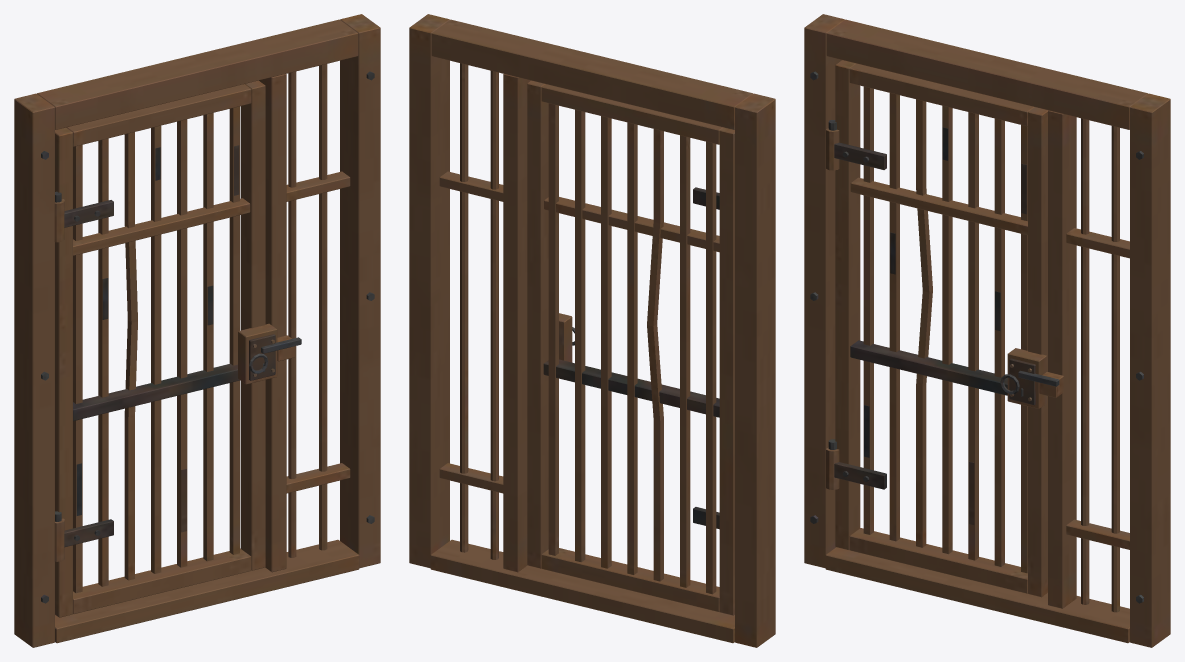
File: O21_jail_cell_bars.glb
3 renders of one model, left to right at view 1: azimuth 30°, elevation 25°; view 2: azimuth 150°, elevation 25°; view 3: azimuth 330°, elevation 25°, orthographic.
Parts seen in each view (by area): view 1: Left jamb; view 2: Left jamb; view 3: Left jamb.
Boxes of the visible parts, box(x1,y1,x2,y2) form: Left jamb: box(14, 14, 380, 647); Left jamb: box(409, 14, 775, 647); Left jamb: box(804, 14, 1170, 647).
Size of the model in its own units: 1.7 by 2.5 by 0.2606.
3 materials, 3 textured.
